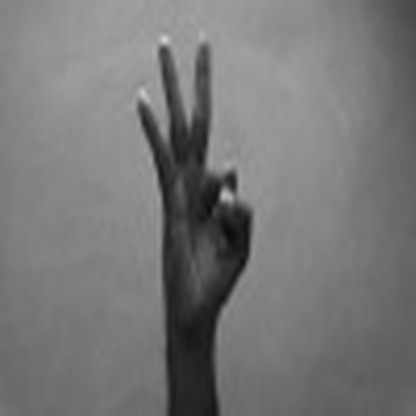f: (124, 27, 261, 334)
